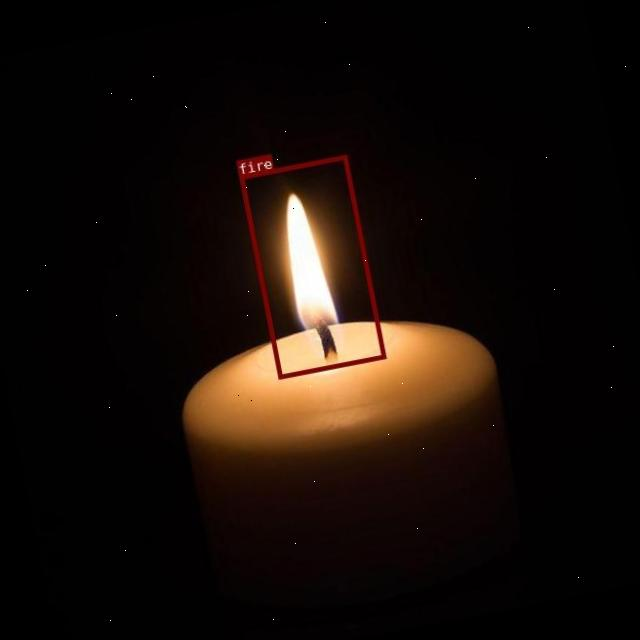fire: (239, 155, 385, 379)
